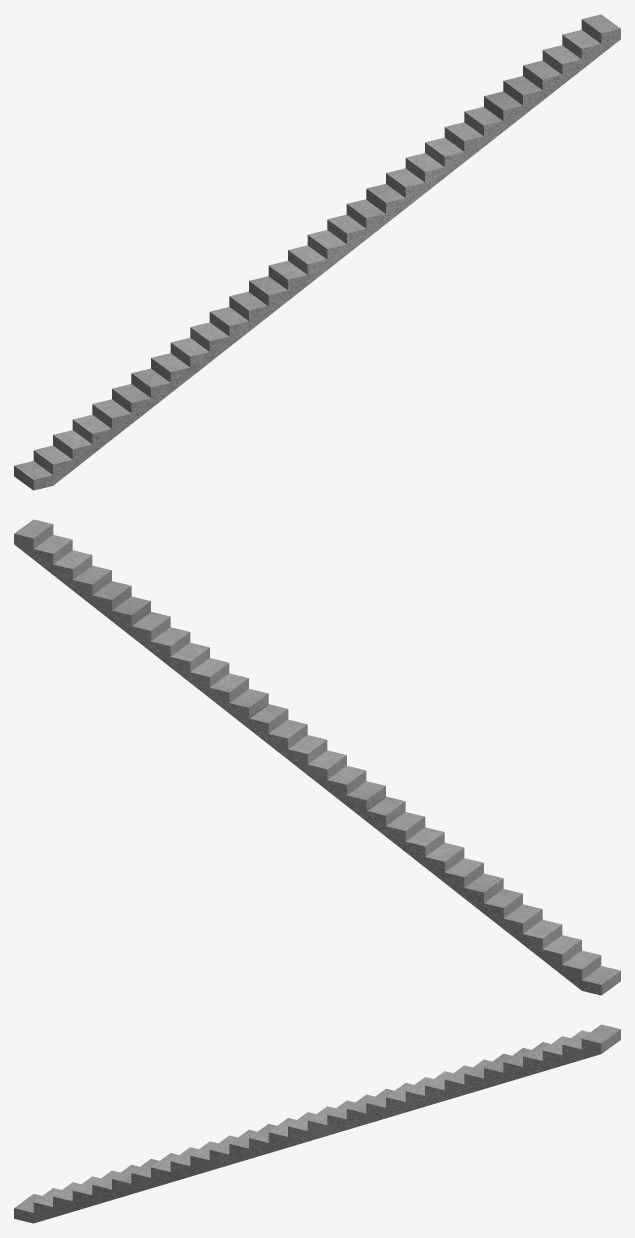
Rendered from Stair_large_01.FBX.
3 renders of one model, top to bottom at view 1: azimuth 30°, elevation 25°; view 2: azimuth 150°, elevation 25°; view 3: azimuth 330°, elevation 25°, orthographic.
Visible parts, largest first — view 1: Stair_large_01; view 2: Stair_large_01; view 3: Stair_large_01.
Part boxes in pixels (x1,y1,x2,y2): Stair_large_01: (14,14,620,490); Stair_large_01: (14,519,620,995); Stair_large_01: (14,1024,620,1223).
Size of the model in its own units: 13.93 by 7.22 by 0.8043.
